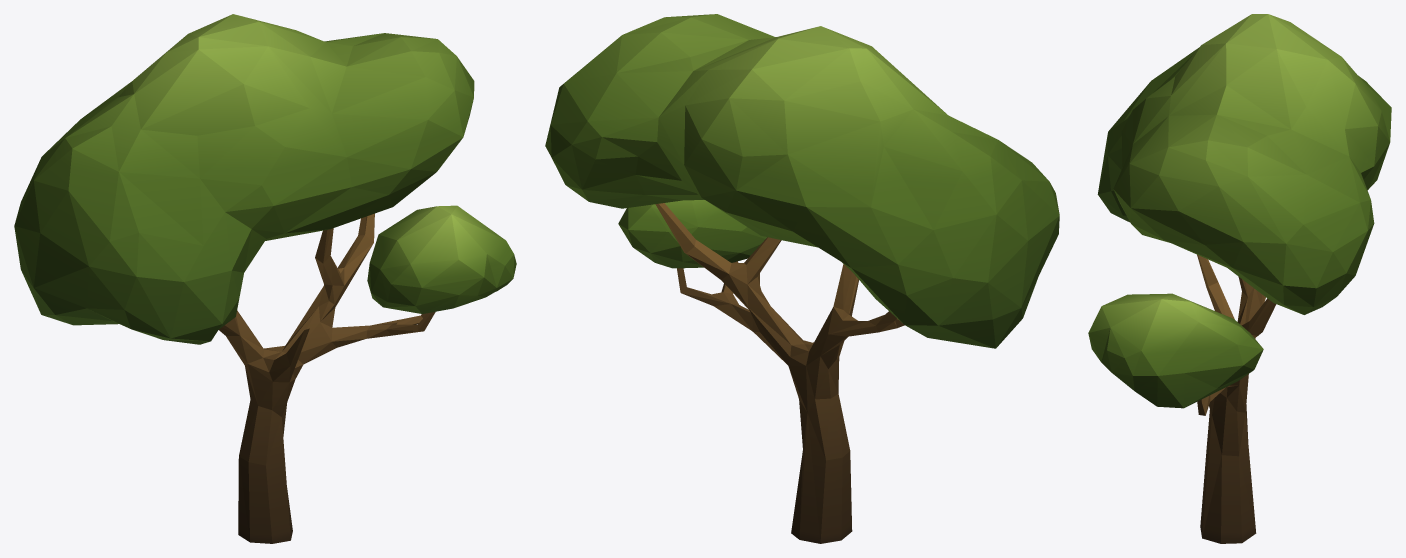
Rendered from Tree_05.fbx.
3 views of the same model, side by side, from view 1: azimuth 30°, elevation 25°; view 2: azimuth 150°, elevation 25°; view 3: azimuth 270°, elevation 25° (orthographic). The views are drawn at different scales.
Parts seen in each view (by area): view 1: Tree_05; view 2: Tree_05; view 3: Tree_05.
Boxes of the visible parts, x1,y1,x2,y2 form: Tree_05: [14, 14, 516, 543]; Tree_05: [545, 14, 1059, 543]; Tree_05: [1088, 14, 1391, 543].
Size of the model in its own units: 5.42 by 5.78 by 3.21.
